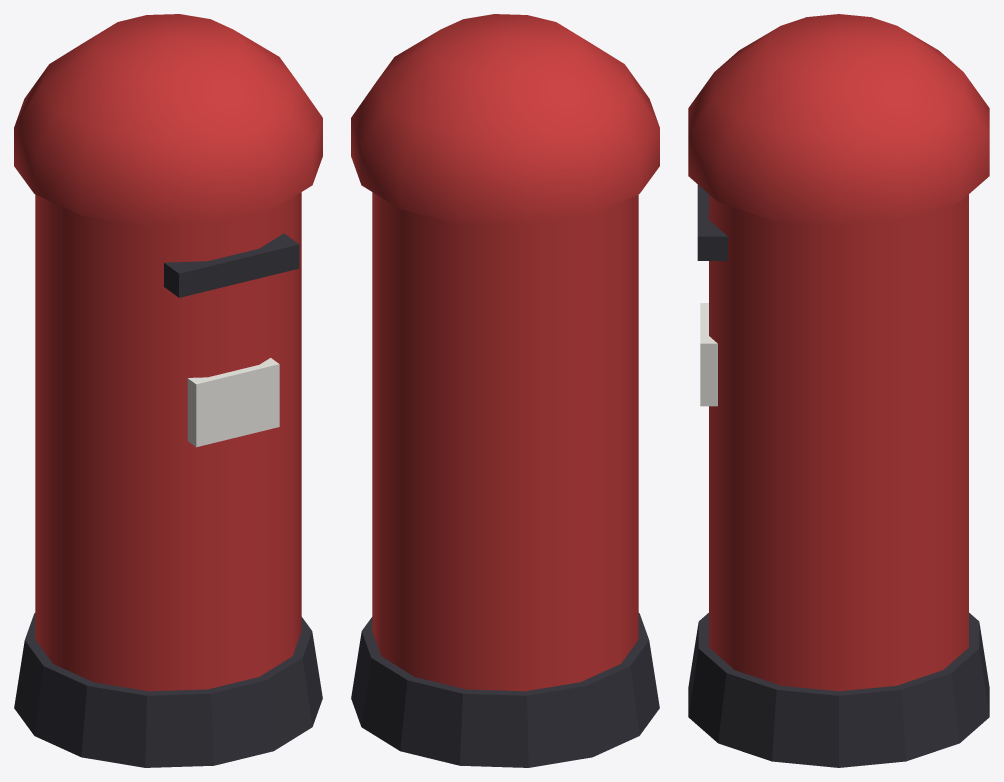
File: mailbox.glb
3 views of the same model, side by side, from view 1: azimuth 30°, elevation 25°; view 2: azimuth 150°, elevation 25°; view 3: azimuth 270°, elevation 25° (orthographic).
Parts seen in each view (by area): view 1: Mailbox body, Mailbox cap, Mailbox plinth, Mailbox plate, Mailbox slot; view 2: Mailbox body, Mailbox cap, Mailbox plinth; view 3: Mailbox body, Mailbox cap, Mailbox plinth, Mailbox plate, Mailbox slot.
Part boxes in pixels (box(x1,y1,x2,y2)): Mailbox body: box(35, 192, 301, 691); Mailbox cap: box(14, 14, 322, 225); Mailbox plinth: box(14, 613, 322, 767); Mailbox plate: box(187, 358, 279, 447); Mailbox slot: box(164, 233, 299, 297); Mailbox body: box(372, 192, 638, 691); Mailbox cap: box(351, 14, 659, 225); Mailbox plinth: box(351, 613, 659, 767); Mailbox body: box(709, 194, 968, 691); Mailbox cap: box(688, 14, 989, 226); Mailbox plinth: box(688, 613, 989, 767); Mailbox plate: box(700, 303, 717, 406); Mailbox slot: box(697, 184, 727, 260).
Bounding box in the file's own units: 0.58 × 1.38 × 0.5655.
